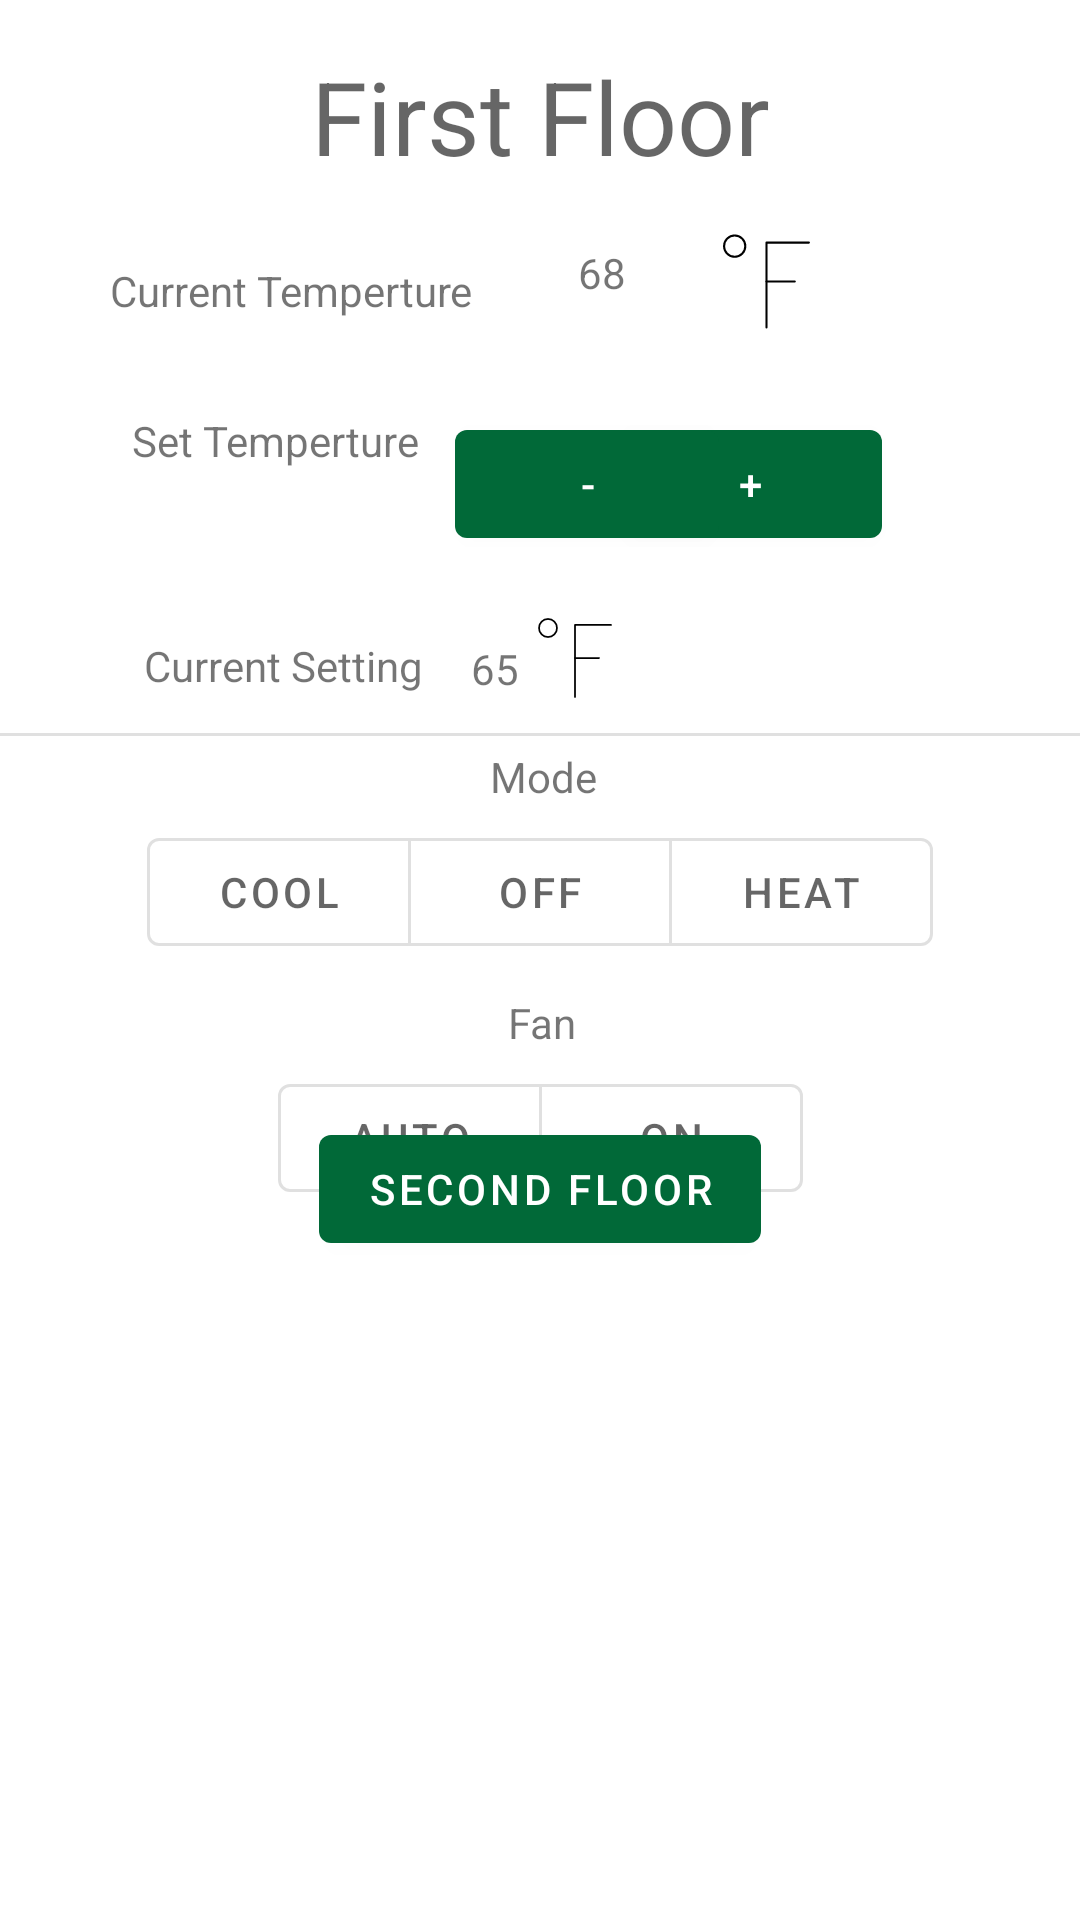

Named icons in this screenshot (1080 x 1920) and their centers, point (x, y):
streamline interface weather fahrenheit: point (766, 281), point (575, 658)
